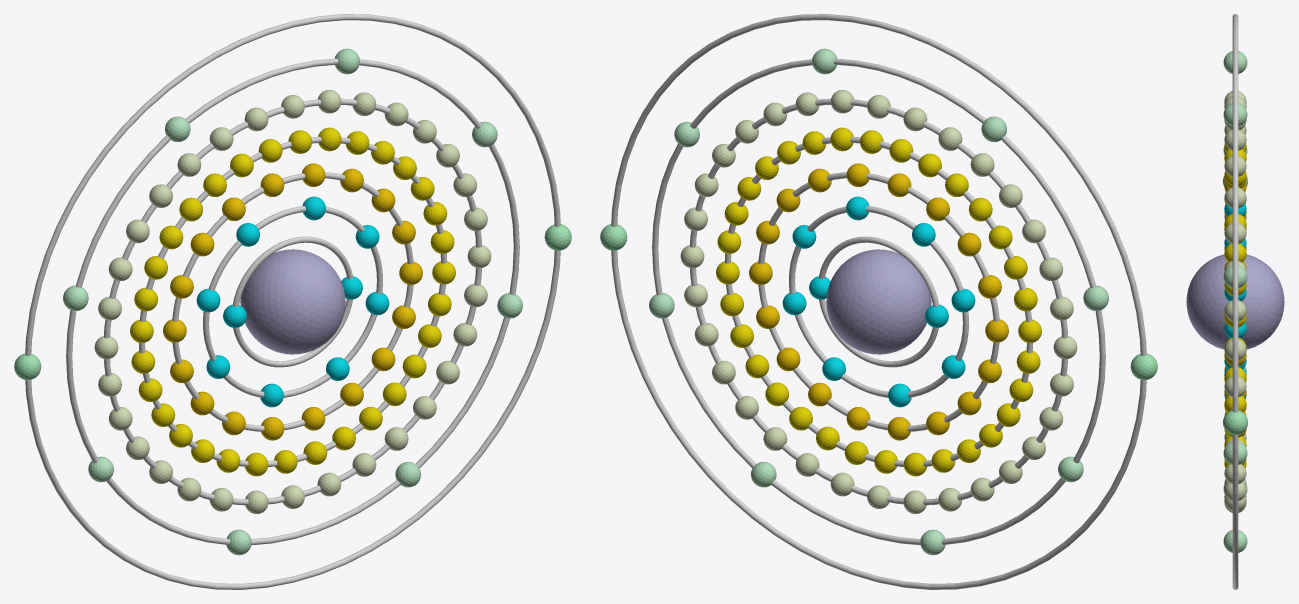
The picture shows the model from 3 angles, left to right: view 1: azimuth 30°, elevation 25°; view 2: azimuth 150°, elevation 25°; view 3: azimuth 270°, elevation 25°; orthographic projection. The views are drawn at different scales.
Visible parts, largest first — view 1: world; view 2: world; view 3: world.
Boxes of the visible parts, box(x1,y1,x2,y2) form: world: box(14, 14, 571, 589); world: box(600, 14, 1157, 589); world: box(1186, 14, 1284, 589).
Bounding box in the file's own units: 2.67 × 2.59 × 0.44.
